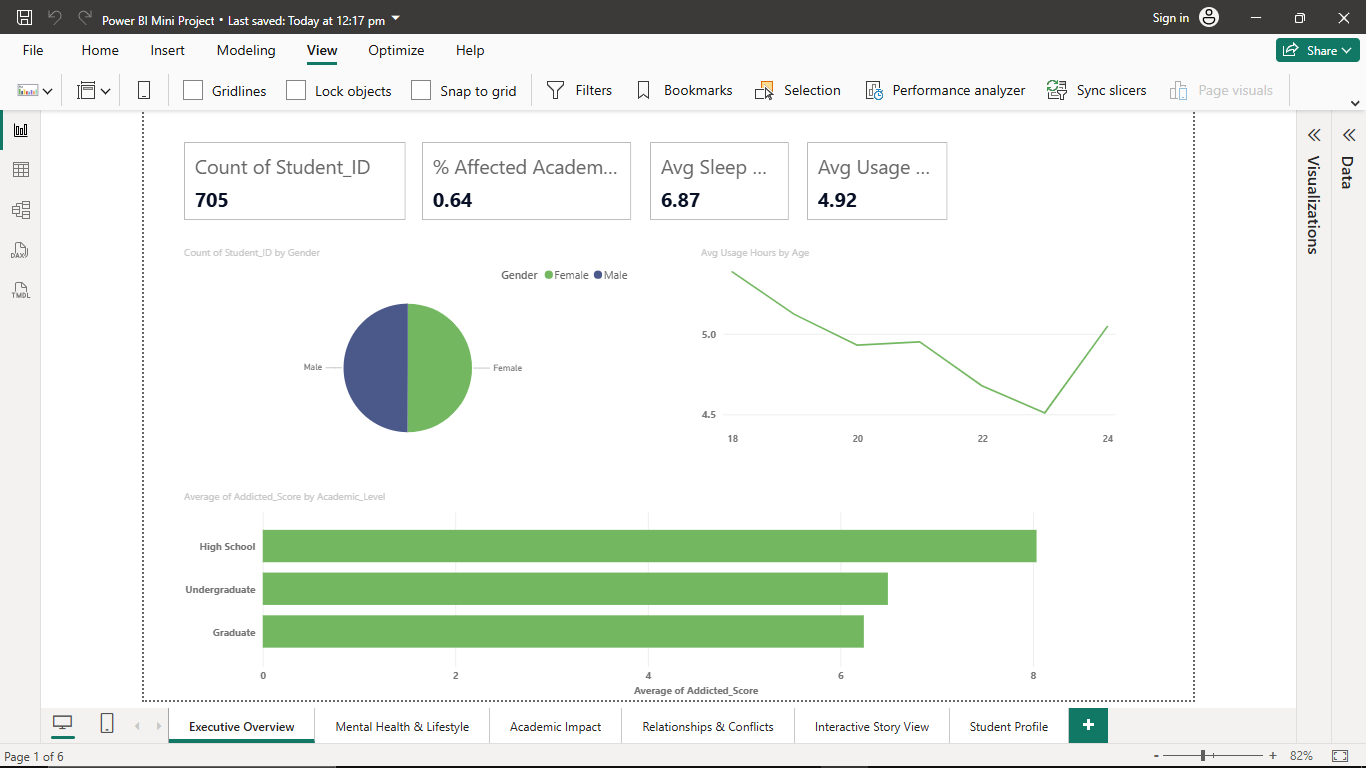

Layout of this report page (visuals, bound fields, positions):
{"tool":"powerbi","page":{"name":"Executive Overview","canvas":[1280,720],"ordinal":0},"visuals":[{"type":"cardVisual","fields":{"Data":["CountNonNull(Student Details.Student_ID)"]},"box":[43.7,33.6,280.5,105.8],"z":0},{"type":"cardVisual","fields":{"Data":["Platform Details.Avg Usage Hours"]},"box":[804.6,33.6,181.4,105.8],"z":1000},{"type":"cardVisual","fields":{"Data":["Platform Details.% Affected Academically"]},"box":[334.3,33.6,265.4,105.8],"z":2000},{"type":"cardVisual","fields":{"Data":["Student Details.Avg Sleep Hours"]},"box":[613.1,33.6,179.7,105.8],"z":3000},{"type":"clusteredBarChart","fields":{"Y":["Avg(Student Details.Addicted_Score)"],"Category":["Student Details.Academic_Level"]},"box":[43.7,461.9,1167.5,258.7],"z":4000},{"type":"lineChart","fields":{"Category":["Student Details.Age"],"Y":["Platform Details.Avg Usage Hours"]},"box":[675.3,164.6,515.7,255.3],"z":5000},{"type":"pieChart","fields":{"Category":["Student Details.Gender"],"Y":["CountNonNull(Student Details.Student_ID)"]},"box":[43.7,164.6,556,255.3],"z":6000}]}

Visuals, with their boxes on the page's 1280x720 design canvas (x1, y1, x2, y2). These are canvas units, not pixel positions in the 1366x768 screenshot, which may show the page scaled, cropped or inside an application window:
cardVisual - CountNonNull(Student Details.Student_ID): 44,34,324,139
cardVisual - Platform Details.Avg Usage Hours: 805,34,986,139
cardVisual - Platform Details.% Affected Academically: 334,34,600,139
cardVisual - Student Details.Avg Sleep Hours: 613,34,793,139
clusteredBarChart - Avg(Student Details.Addicted_Score) x Student Details.Academic_Level: 44,462,1211,721
lineChart - Student Details.Age x Platform Details.Avg Usage Hours: 675,165,1191,420
pieChart - Student Details.Gender x CountNonNull(Student Details.Student_ID): 44,165,600,420
